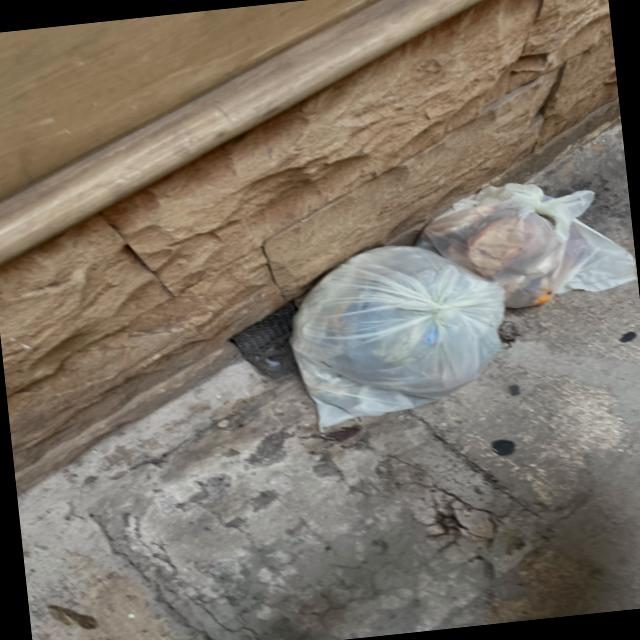white_bag: (269, 237, 532, 458), (422, 171, 632, 320)
